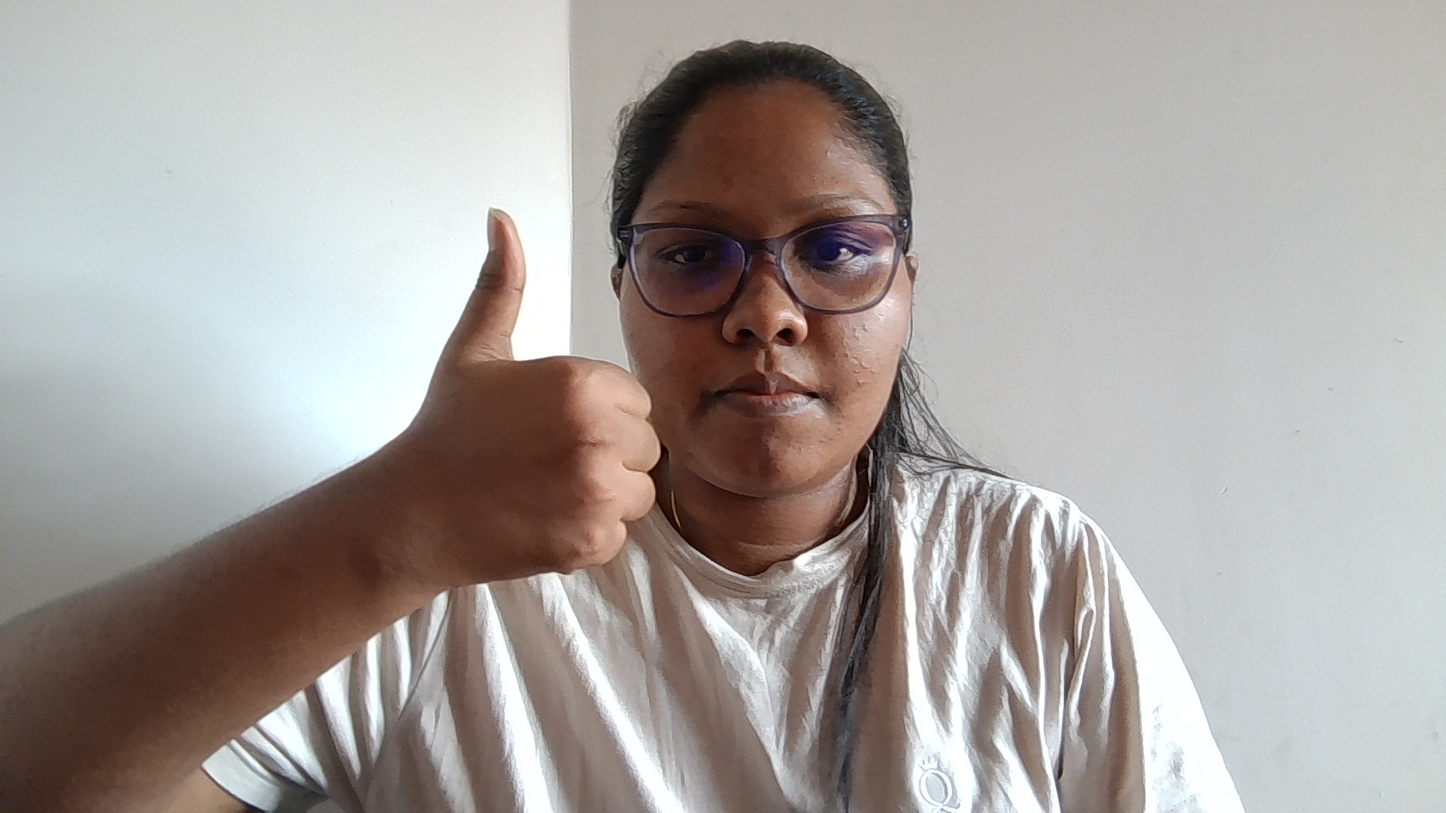Thumbs Up: (397, 154, 790, 753)
